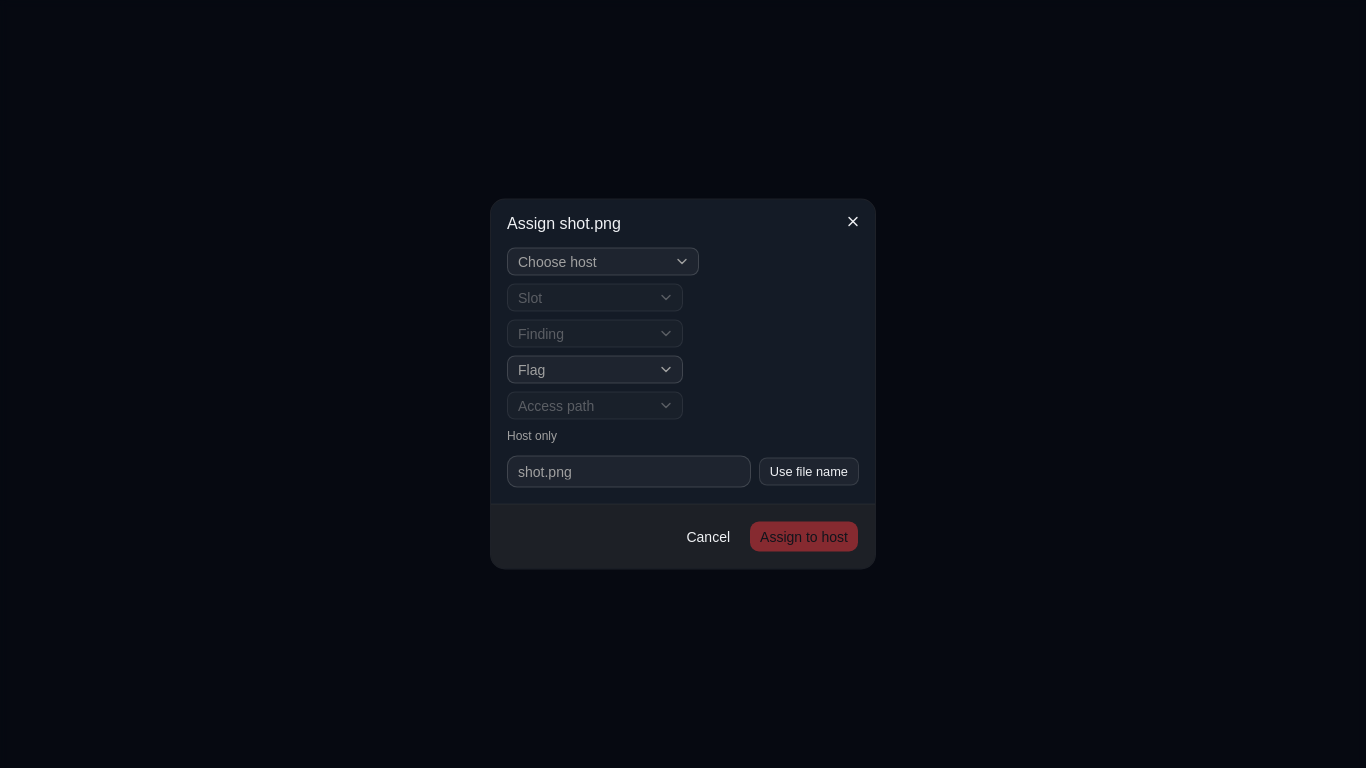
Scenario: AssignDialog › confirm is disabled until a host is chosen
Expected: the dialog "Assign shot.png" is shown, [491, 200, 875, 568]
Expected: the button "Assign to host" is disabled, [749, 520, 859, 552]
Click the dropdown labelled "host": (603, 262) [507, 248, 699, 276]
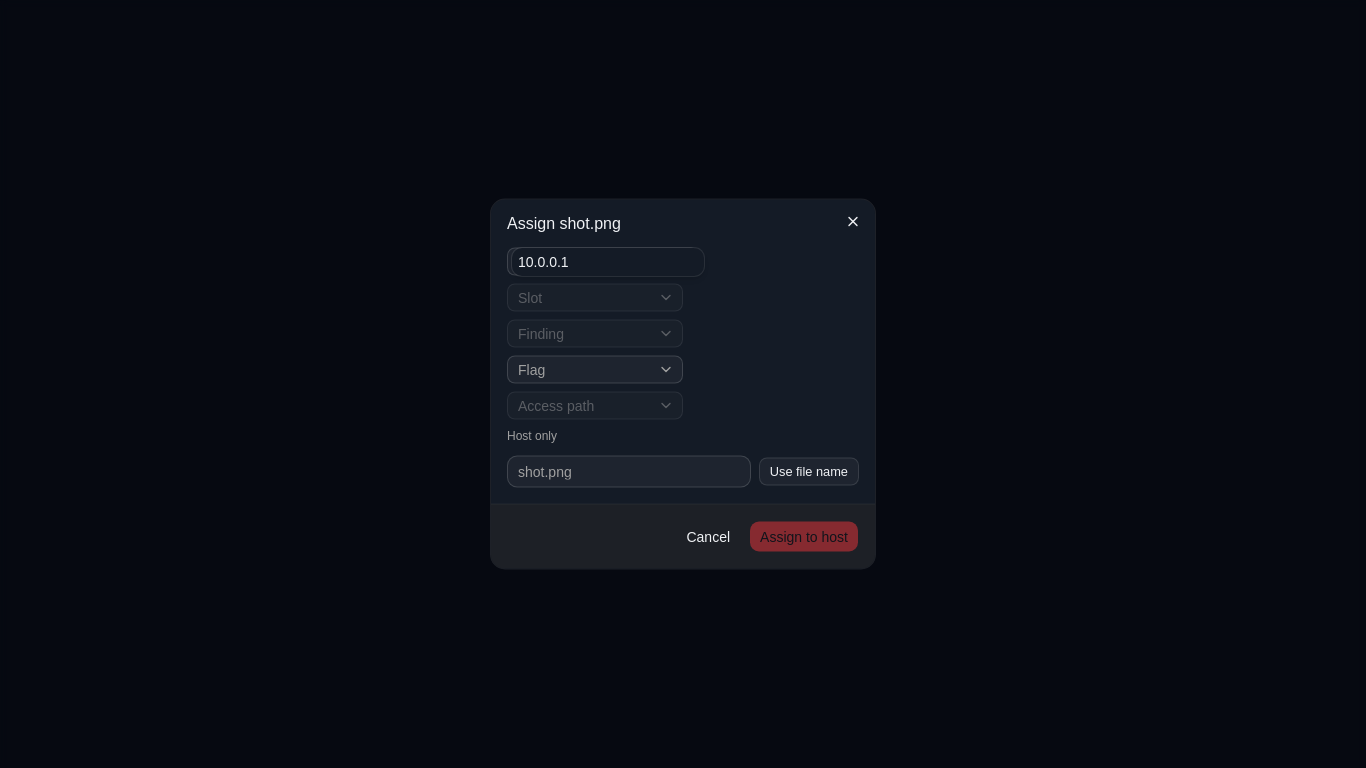
Click the option "10.0.0.1": (543, 262) [518, 254, 569, 270]
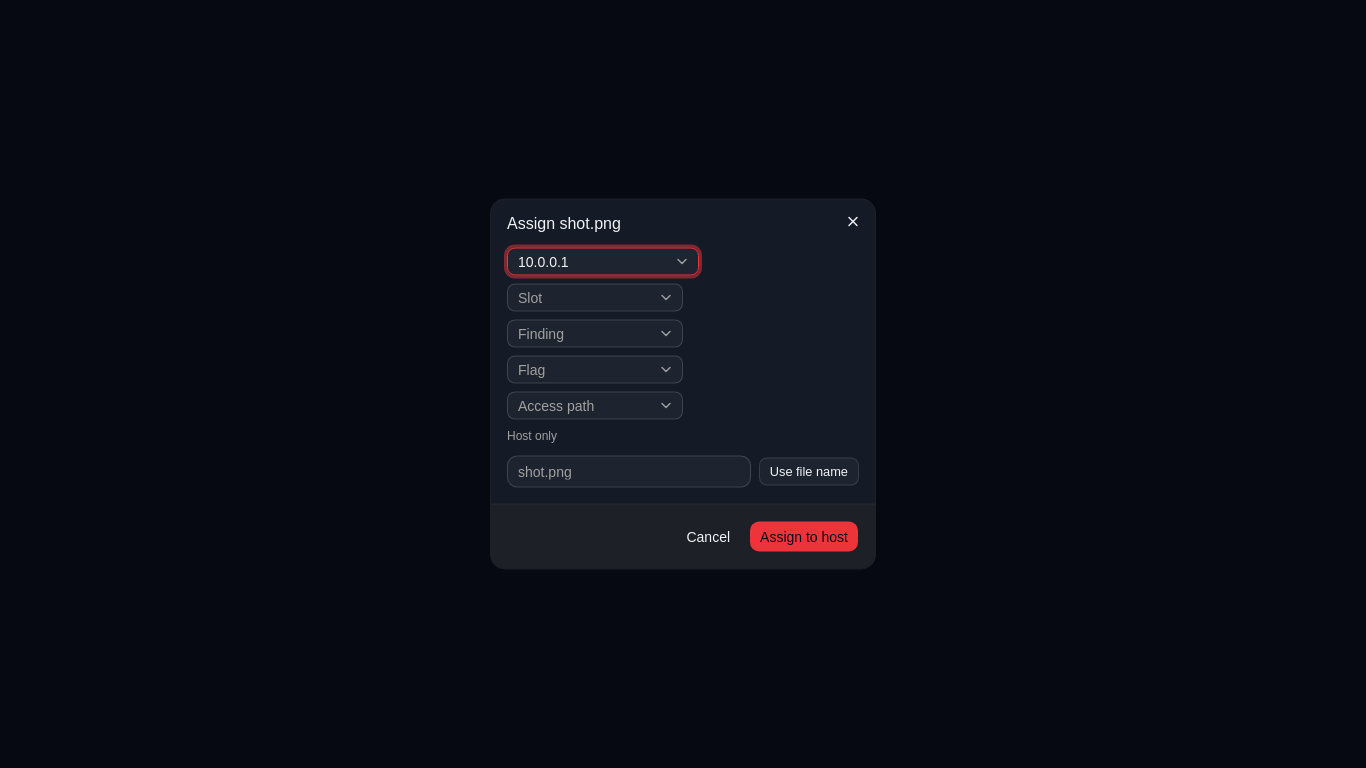
Expected: the button "Assign to host" is enabled, [749, 520, 859, 552]
